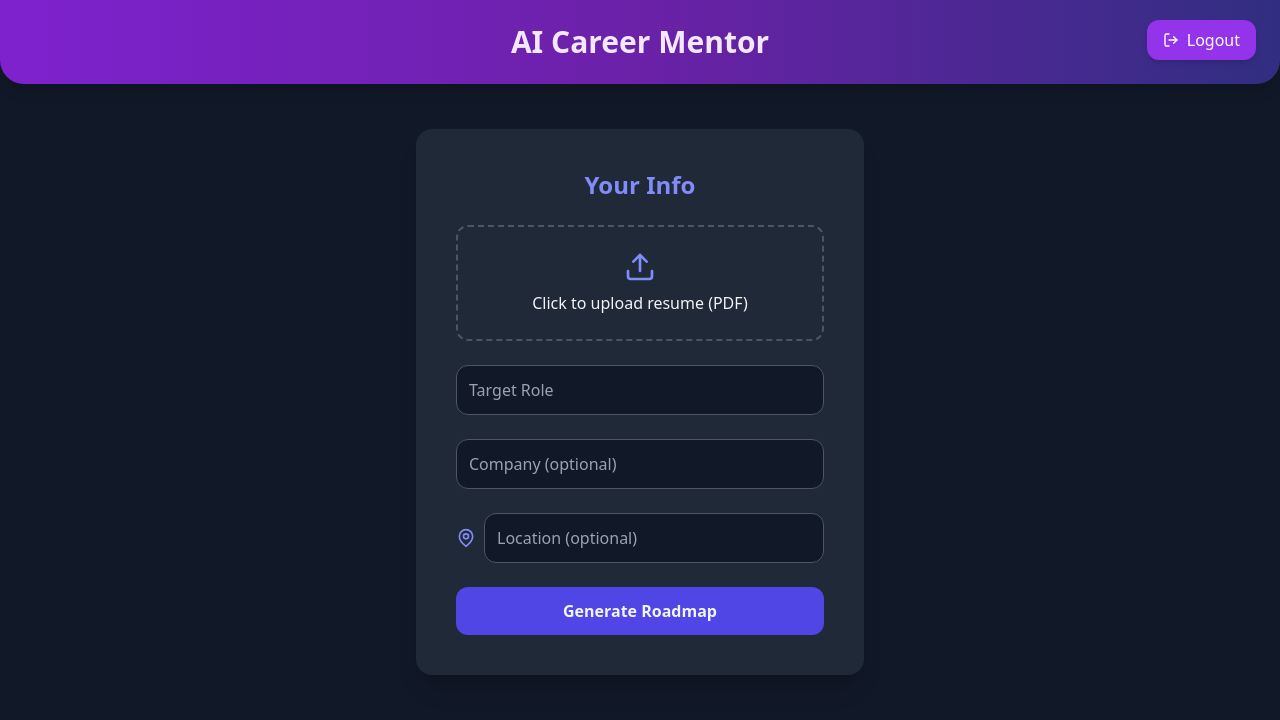
Test case: App Component › shows validation error when submitting without file or targetRole
What coordinates should you click on to do the following:
click the button "Generate Roadmap"
I would click on:
 (640, 611)
Its box is x1=456 y1=587 x2=824 y2=635.
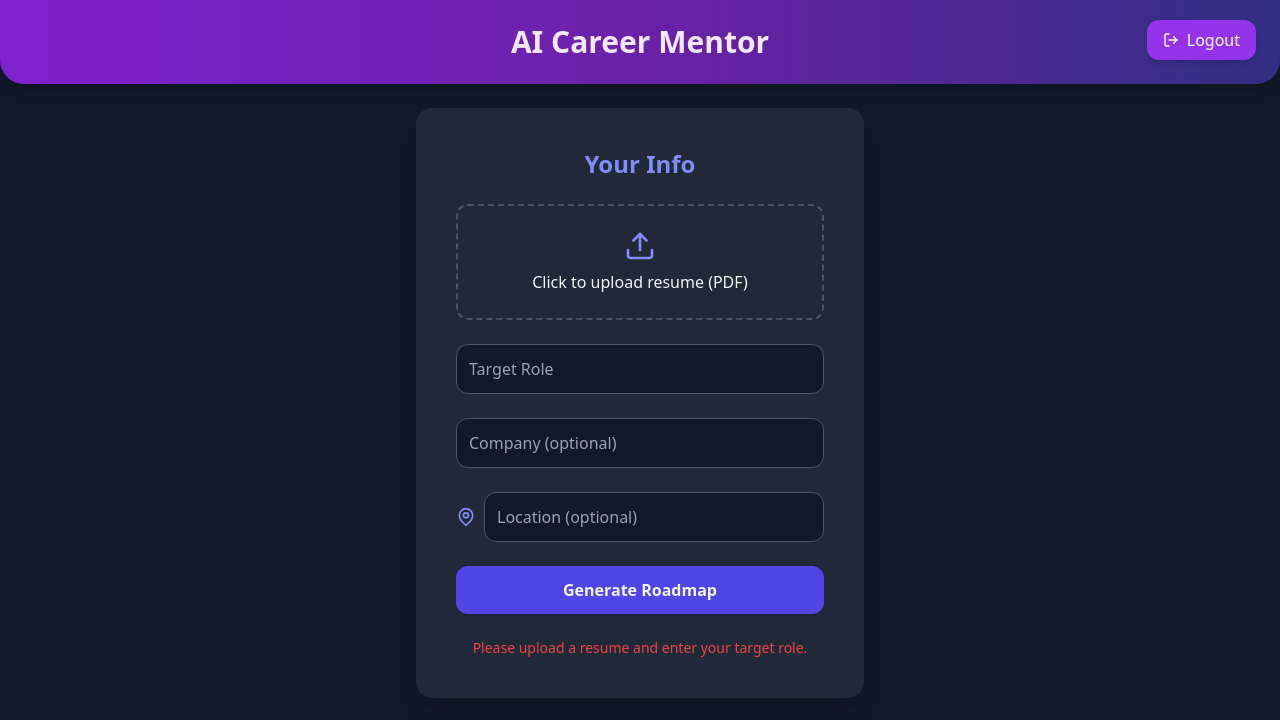
Expected: the text "Please upload a resume and enter your target role." is shown, x1=456 y1=638 x2=824 y2=658
